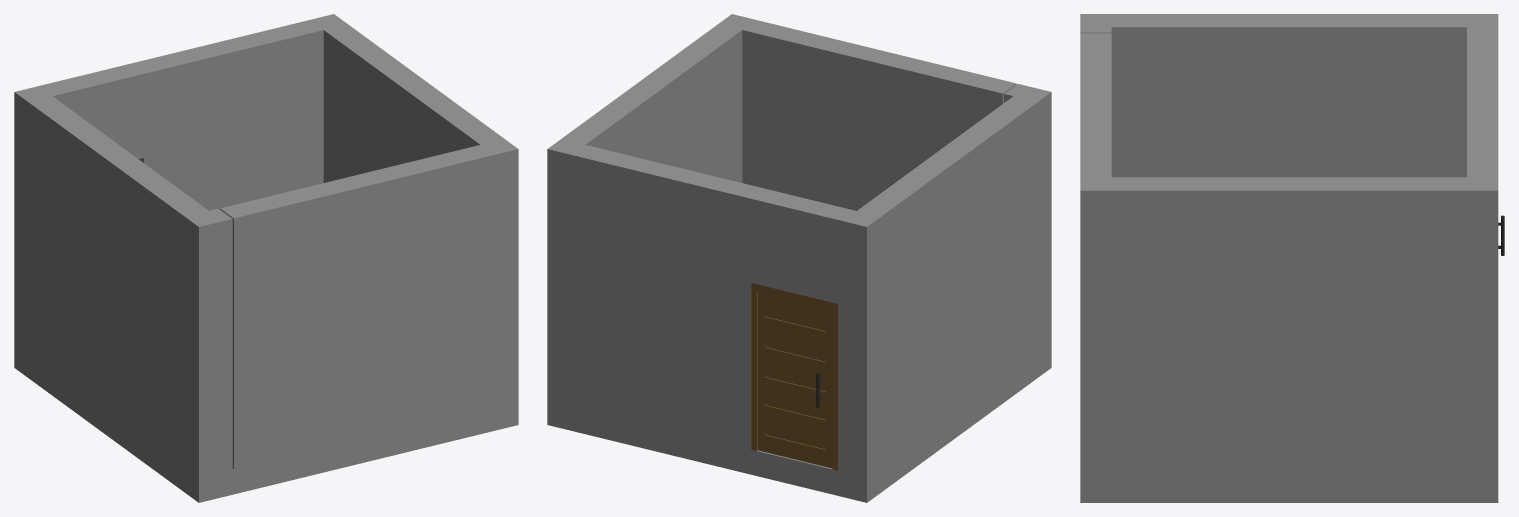
File: MSH_Room_SingleDoor_Front_Safe_01.fbx
The picture shows the model from 3 angles, left to right: view 1: azimuth 30°, elevation 25°; view 2: azimuth 150°, elevation 25°; view 3: azimuth 270°, elevation 25°; orthographic projection. The views are drawn at different scales.
Parts seen in each view (by area): view 1: MSH_Room_SingleDoor_Front_Safe_01, MSH_Room_SingleDoor_Front006; view 2: MSH_Room_SingleDoor_Front_Safe_01, MSH_Room_SingleDoor_Front006, MSH_DoorFrame_Single (×2); view 3: MSH_Room_SingleDoor_Front_Safe_01, MSH_Room_SingleDoor_Front006.
Part boxes in pixels (x1,y1,x2,y2): MSH_Room_SingleDoor_Front_Safe_01: [14, 14, 518, 502]; MSH_Room_SingleDoor_Front006: [185, 139, 518, 477]; MSH_Room_SingleDoor_Front_Safe_01: [547, 24, 1051, 502]; MSH_Room_SingleDoor_Front006: [718, 14, 1051, 352]; MSH_DoorFrame_Single (×2): [751, 283, 837, 470]; MSH_Room_SingleDoor_Front_Safe_01: [1080, 14, 1498, 502]; MSH_Room_SingleDoor_Front006: [1080, 14, 1111, 474].
Size of the model in its own units: 157 by 130 by 160.
